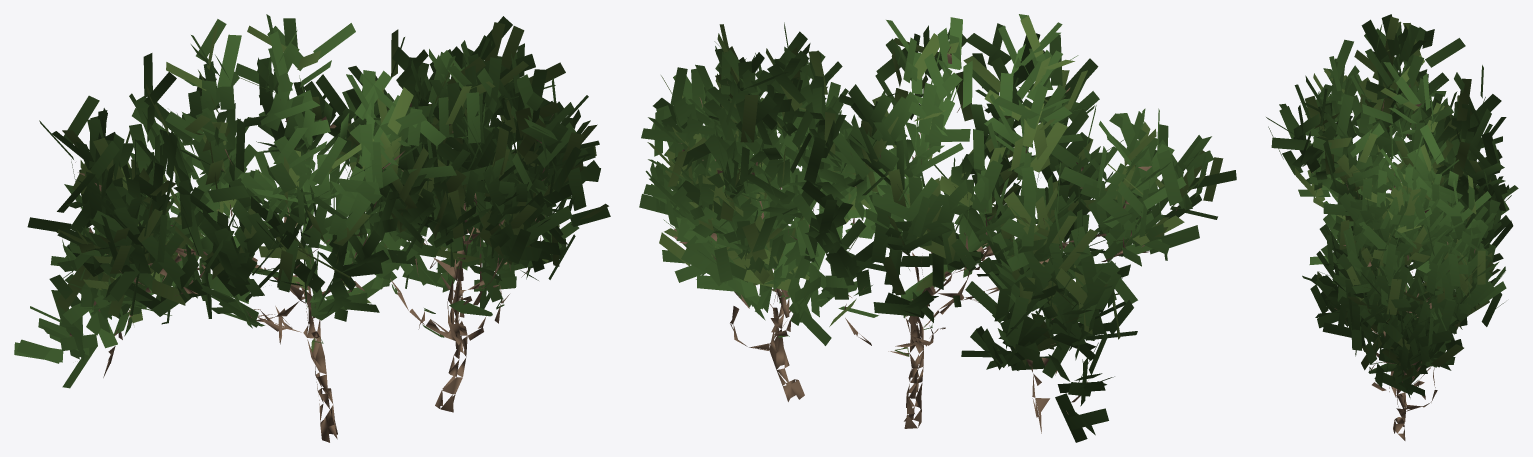
Rendered from arvores_dupla.glb.
3 views of the same model, side by side, from view 1: azimuth 30°, elevation 25°; view 2: azimuth 150°, elevation 25°; view 3: azimuth 270°, elevation 25° (orthographic). The views are drawn at different scales.
Visible parts, largest first — view 1: arvores_dupla; view 2: arvores_dupla; view 3: arvores_dupla.
Boxes of the visible parts, <box> form: arvores_dupla: <box>14,14,610,442</box>; arvores_dupla: <box>639,14,1236,442</box>; arvores_dupla: <box>1266,14,1518,440</box>.
Size of the model in its own units: 2.47 by 1.89 by 1.29.
